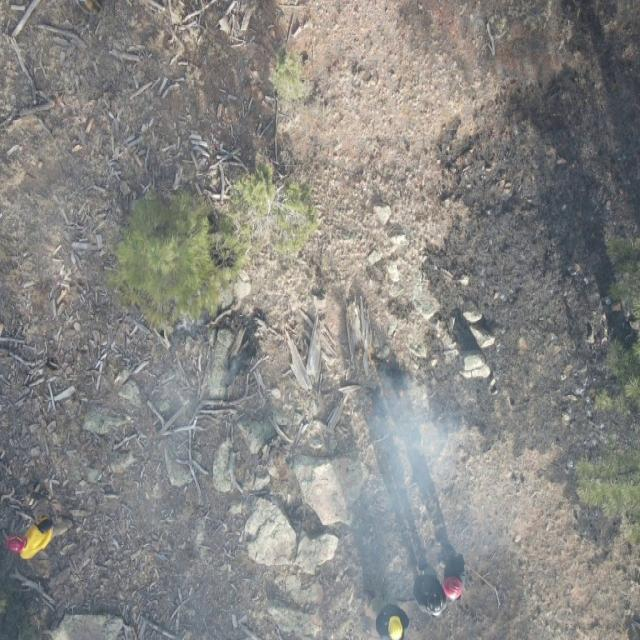fire: (364, 346, 392, 372), (363, 393, 383, 425), (393, 385, 406, 400), (386, 416, 395, 428)
smoke: (0, 295, 497, 640)
